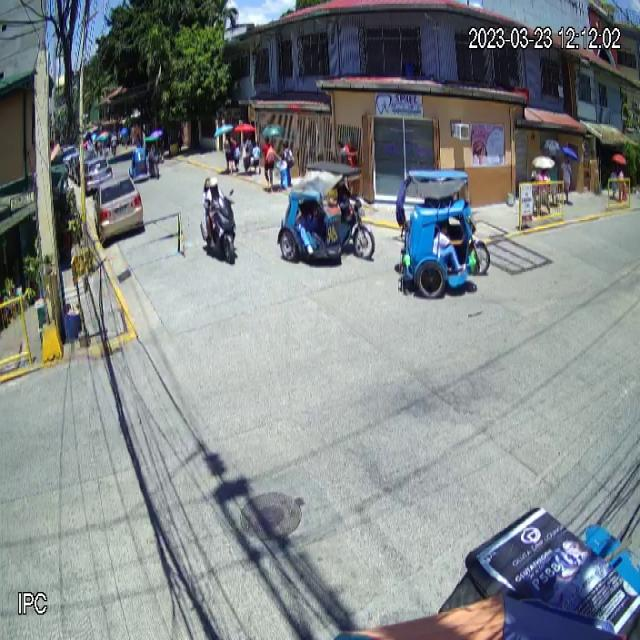Tricycle: (393, 170, 492, 299), (276, 160, 377, 269)
